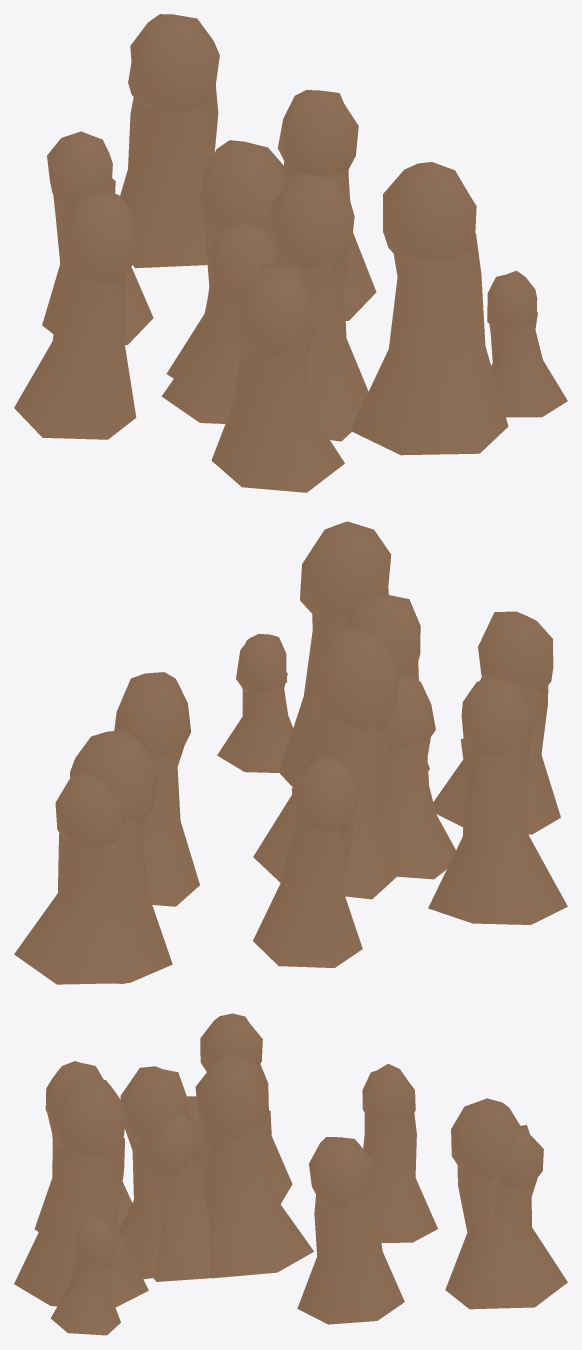
The model's file is Blender_CypressKnees_1.glb.
3 renders of one model, top to bottom at view 1: azimuth 30°, elevation 25°; view 2: azimuth 150°, elevation 25°; view 3: azimuth 270°, elevation 25°, orthographic. The views are drawn at different scales.
Parts seen in each view (by area): view 1: Blender_CypressKnees_1; view 2: Blender_CypressKnees_1; view 3: Blender_CypressKnees_1.
Part boxes in pixels (x1,y1,x2,y2): Blender_CypressKnees_1: [14, 14, 567, 492]; Blender_CypressKnees_1: [14, 521, 567, 984]; Blender_CypressKnees_1: [14, 1013, 567, 1335].
Size of the model in its own units: 1.96 by 1.17 by 2.73.
